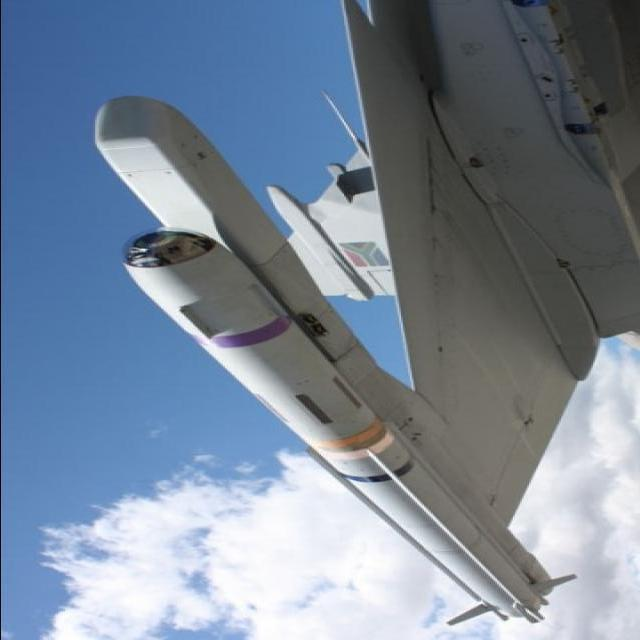missile: (126, 224, 587, 632)
